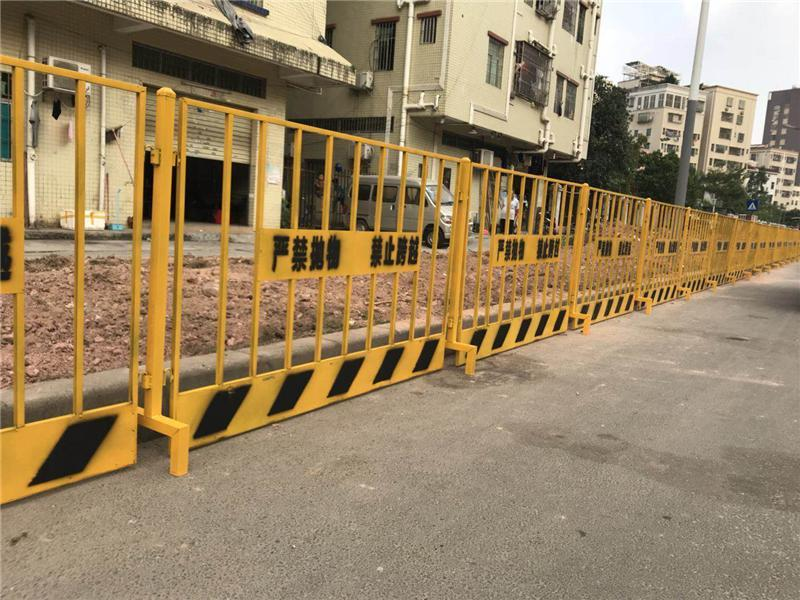sign: (1, 49, 357, 477), (353, 133, 665, 388)
